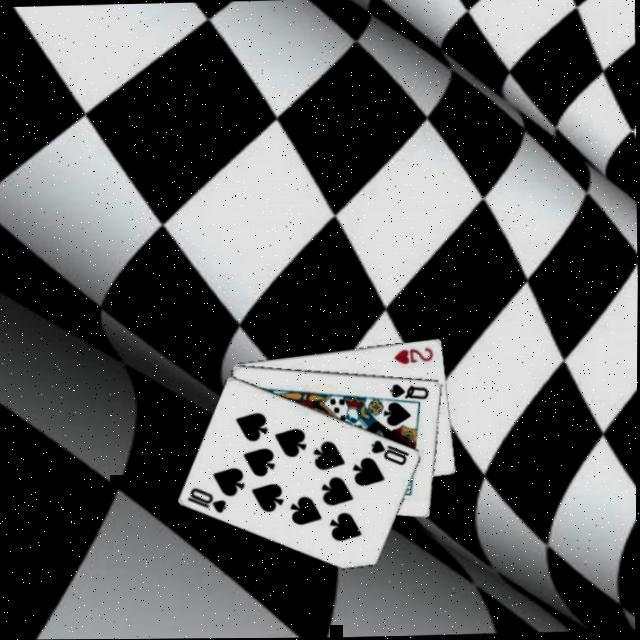10S: (370, 434, 416, 466), (186, 482, 232, 514)
2H: (392, 342, 438, 365)
QS: (389, 378, 433, 400)
